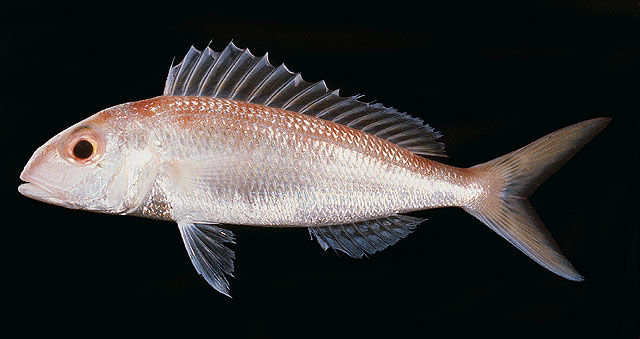fish: (16, 41, 612, 300)
